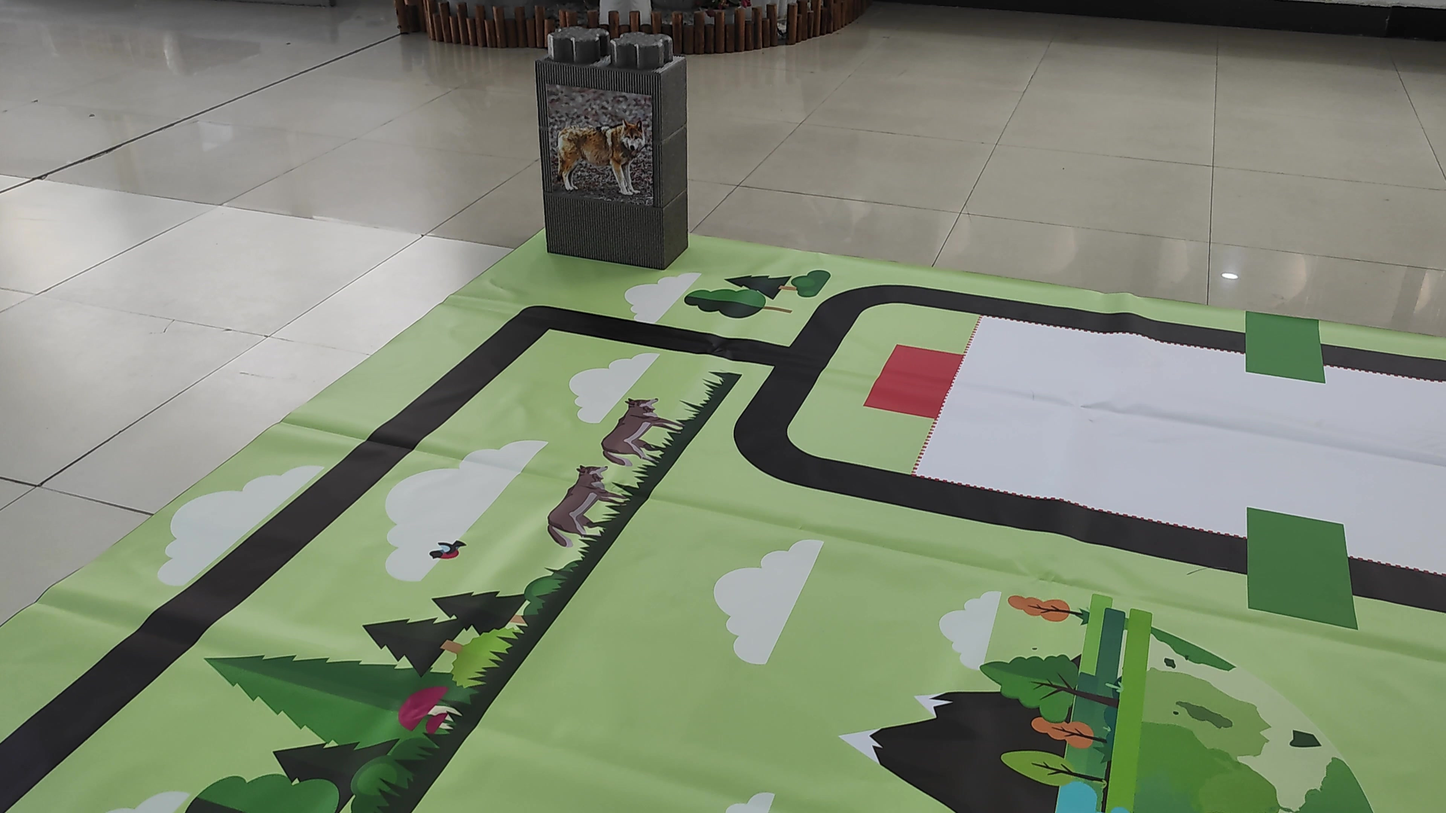wolf: (544, 103, 661, 205)
